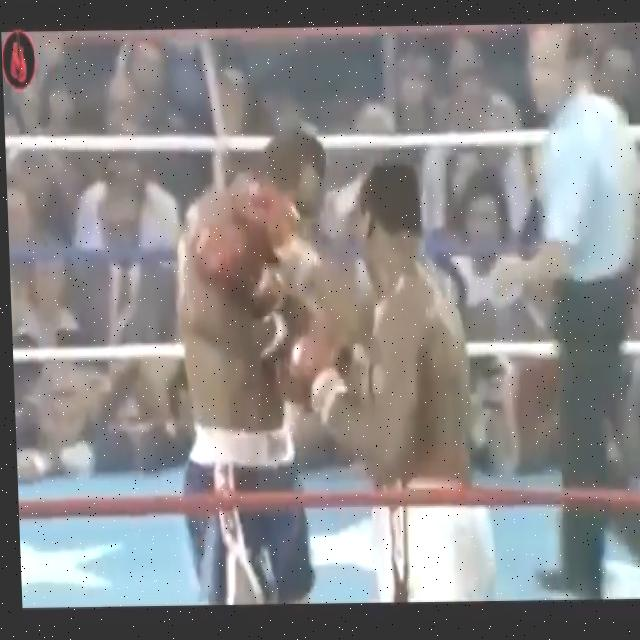Jab: (227, 162, 481, 362)
